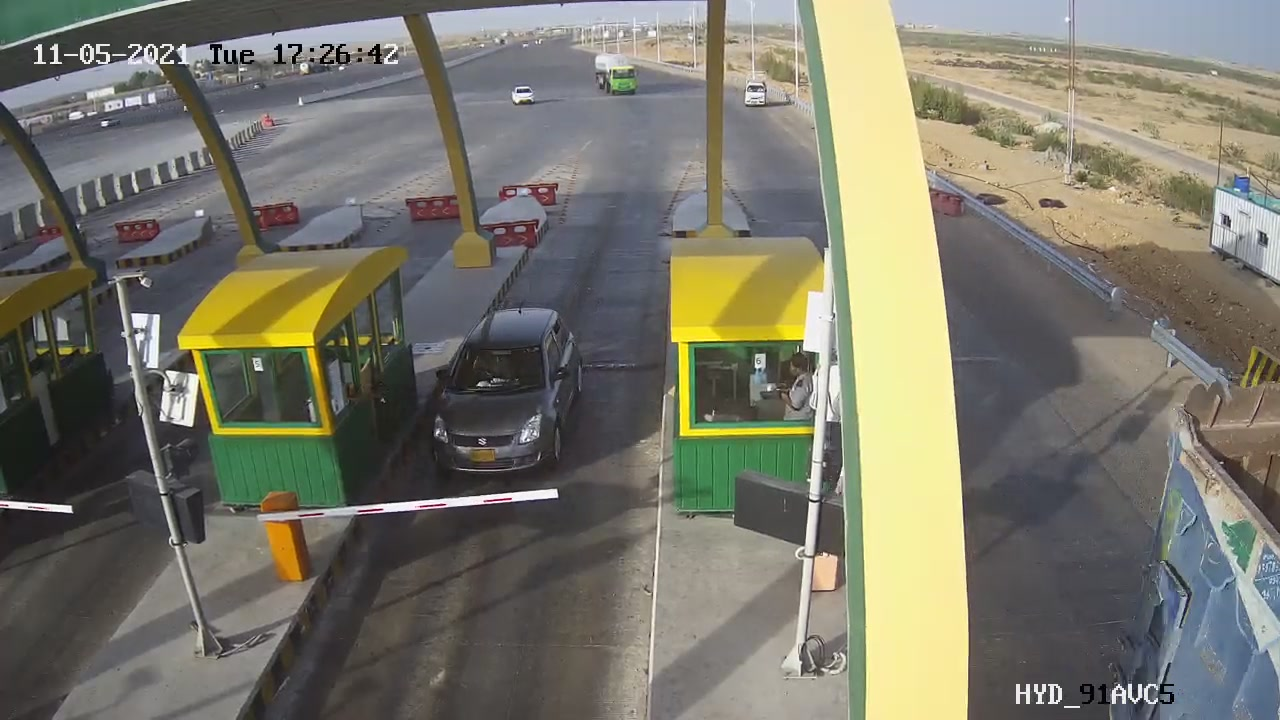F1: (408, 294, 596, 490)
